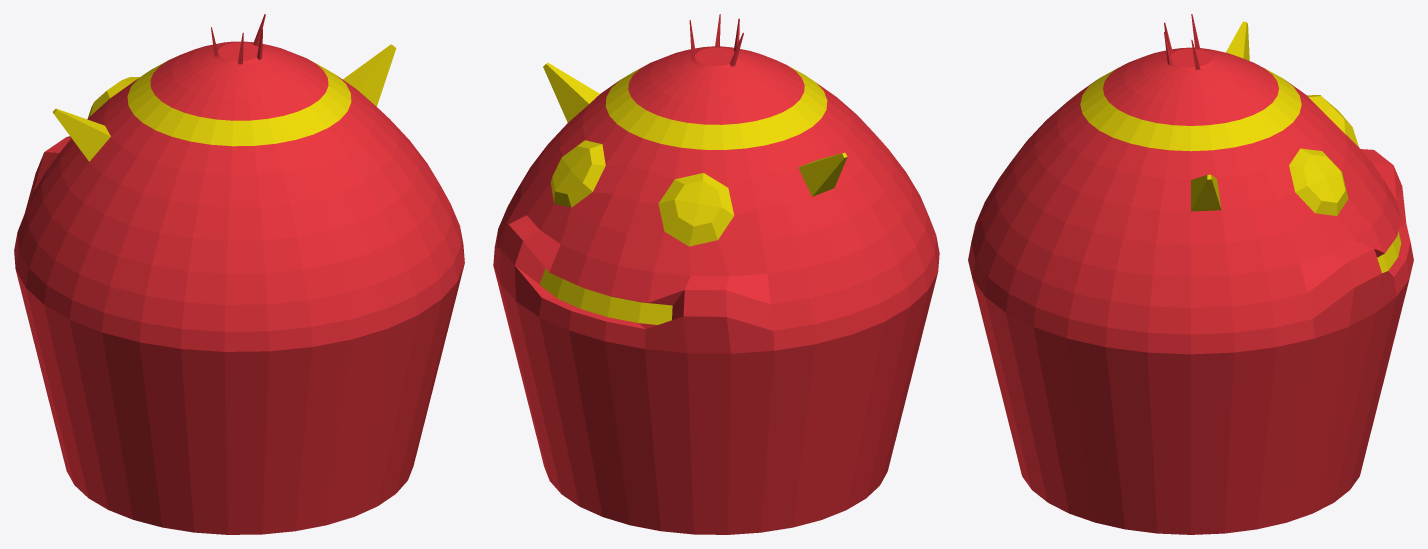
Rendered from enemy_fbx.fbx.
3 renders of one model, left to right at view 1: azimuth 30°, elevation 25°; view 2: azimuth 150°, elevation 25°; view 3: azimuth 270°, elevation 25°, orthographic.
Visible parts, largest first — view 1: Cylinder; view 2: Cylinder; view 3: Cylinder.
Boxes of the visible parts, left/top/right/bottom form: Cylinder: left=14, top=14, right=464, bottom=534; Cylinder: left=493, top=14, right=939, bottom=534; Cylinder: left=968, top=14, right=1413, bottom=534.
Size of the model in its own units: 200 by 215 by 200.
